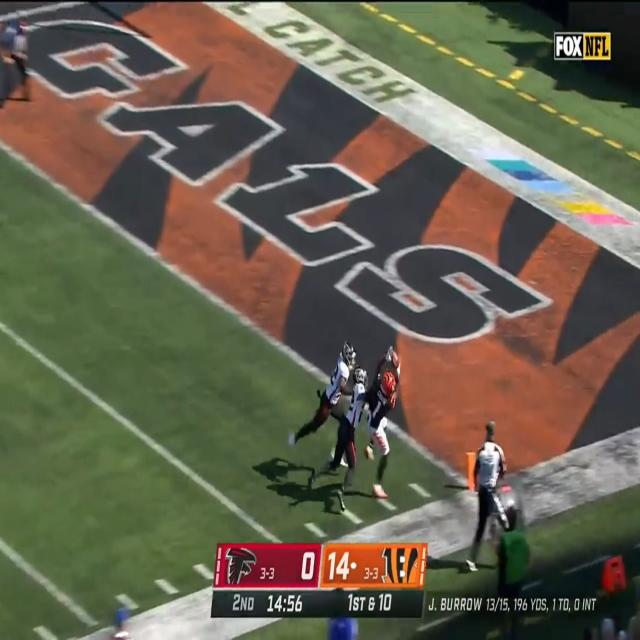Ball: (390, 348, 401, 370)
